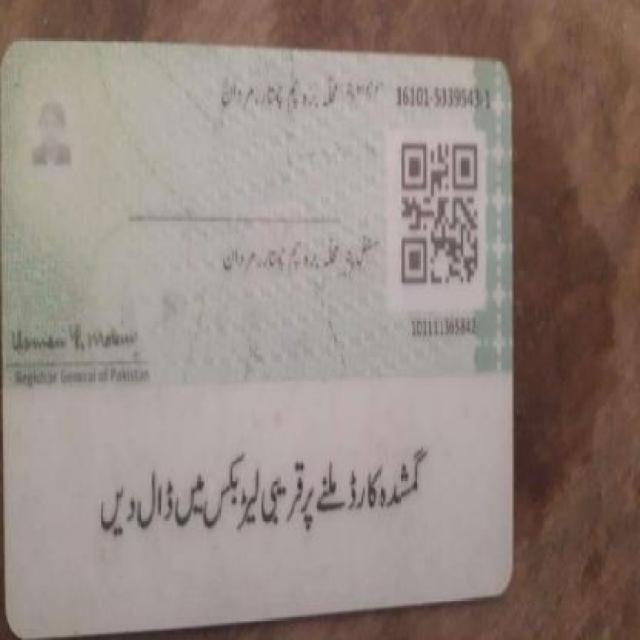Back: (2, 35, 516, 617)
